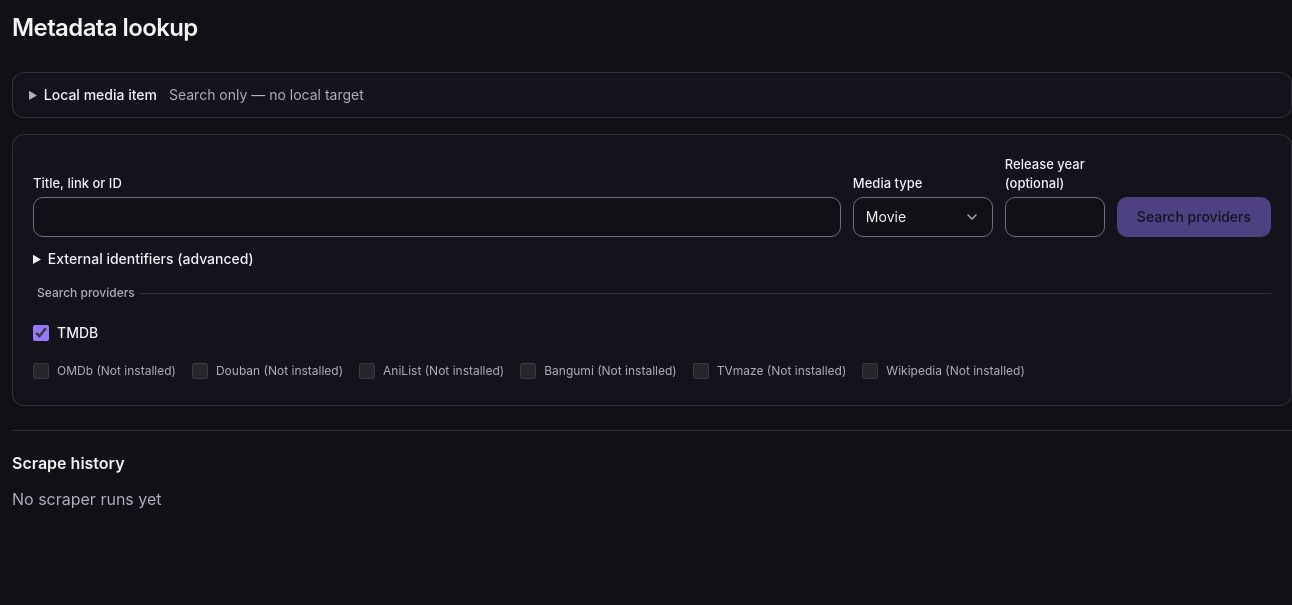
Test: keeps optional local targeting collapsed until requested without sending a provider search
Expected: the text "TMDB" is shown, [57,323,98,343]
Expected: the button "Search providers" is disabled, [1117,197,1271,237]
Click the text "Local media item" at (100, 94), box [44,86,157,103]
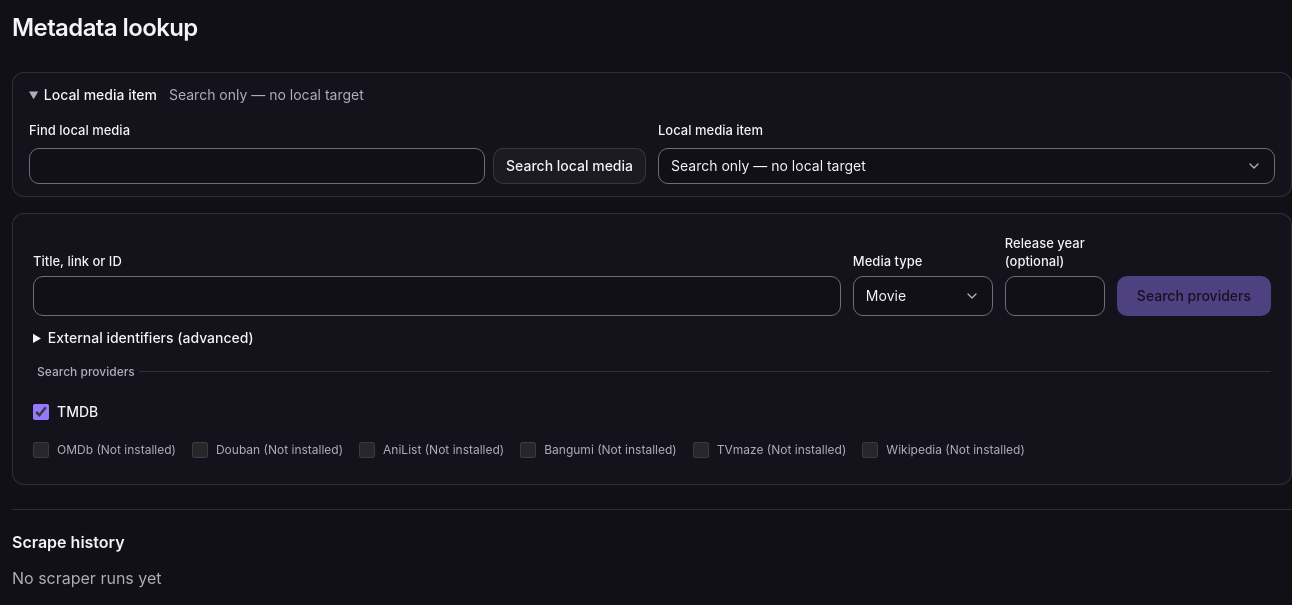
Result: the dropdown named "Local media item" is enabled at [658,148,1275,184]
Result: the search field labelled "Find local media" is shown at [29,148,485,184]
Click the 1st text "Local media item" at (100, 94), box [44,86,157,103]
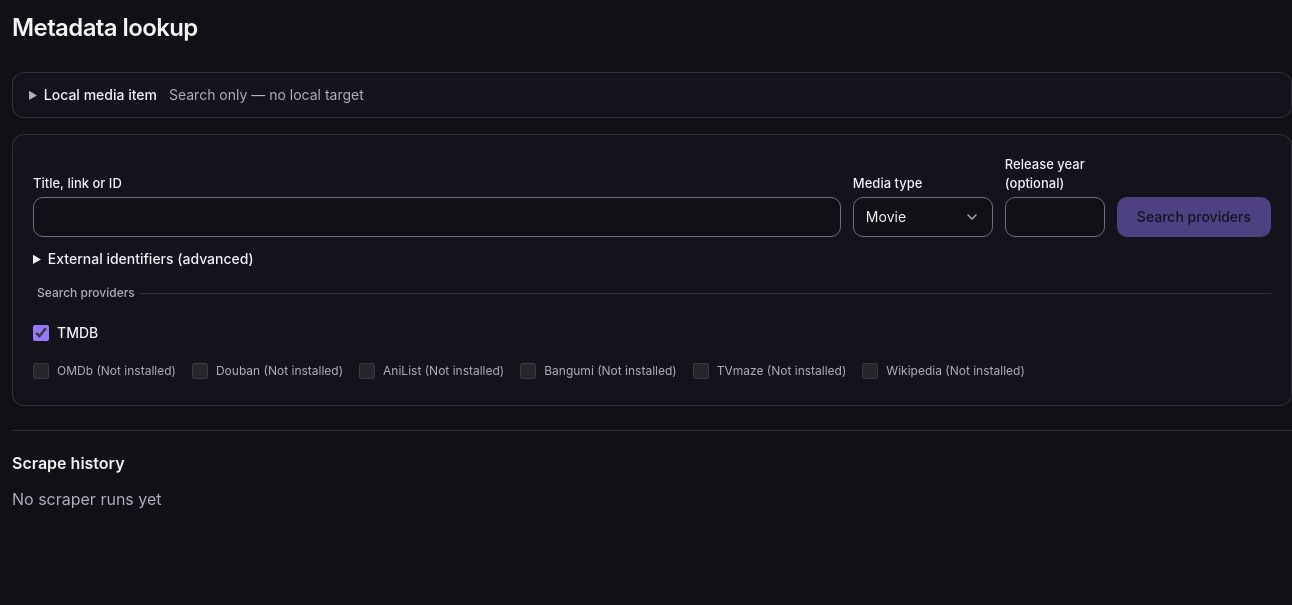
Type "Atlas" into the field labelled "Title, link or ID" at (437, 217), box [33,197,841,237]
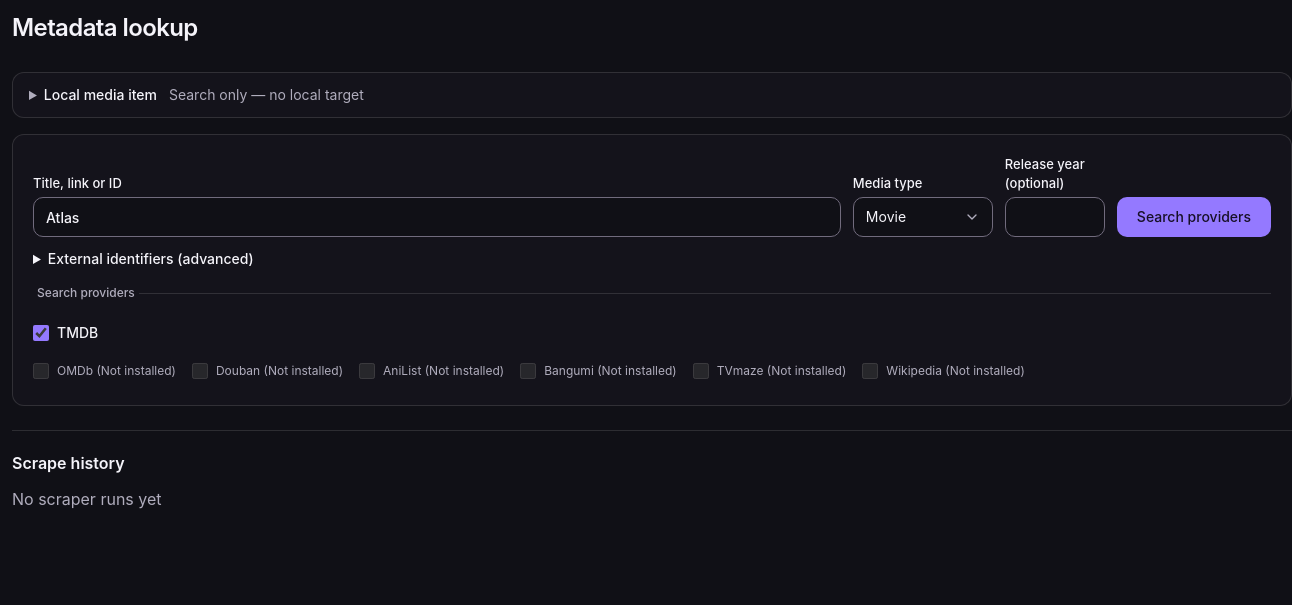
Result: the button "Search providers" is enabled at [1117,197,1271,237]
